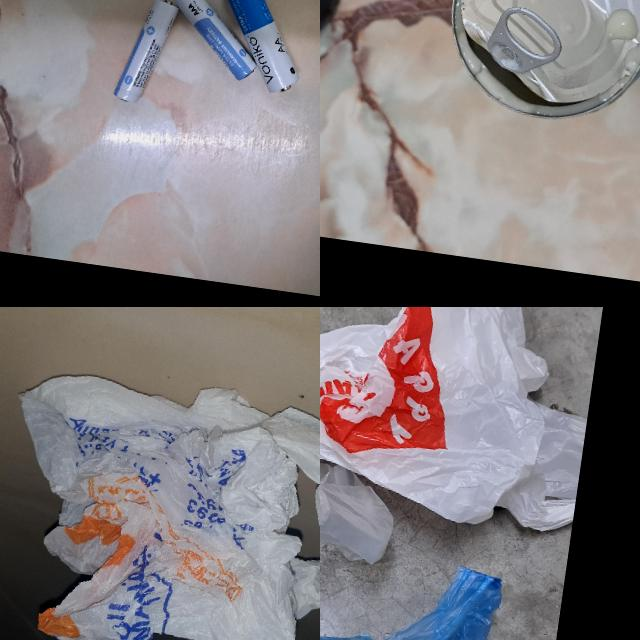aba de lata: (482, 1, 572, 80)
bateria: (208, 0, 313, 95), (167, 0, 267, 83), (111, 0, 181, 110)
lata: (435, 0, 640, 134)
sacola plástica: (0, 357, 320, 640), (320, 307, 612, 540), (320, 307, 424, 640), (320, 515, 519, 640)
